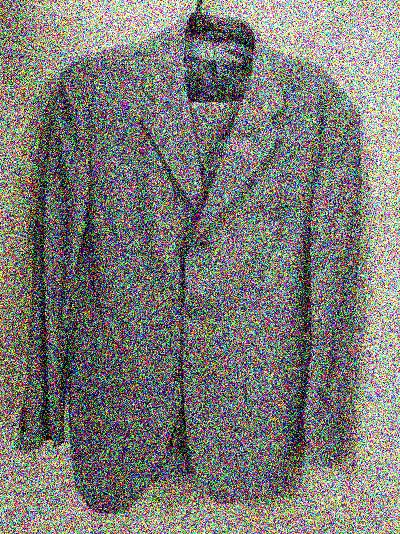Blazer: (19, 22, 374, 504)
